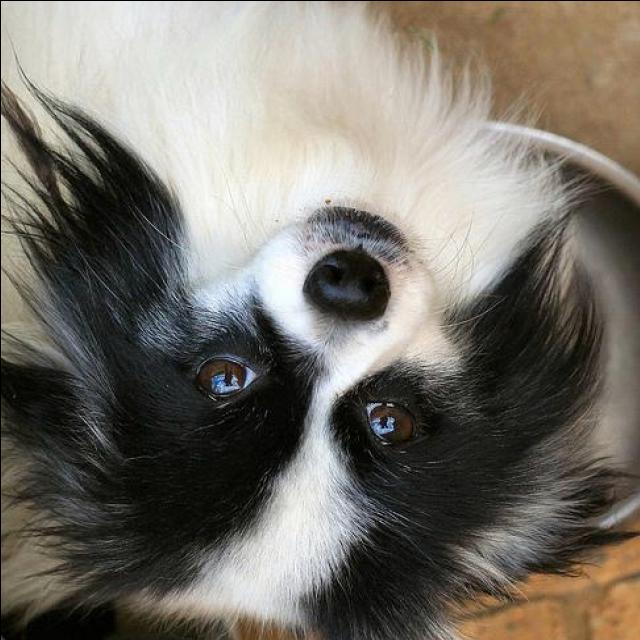papillon: (0, 3, 637, 640)
